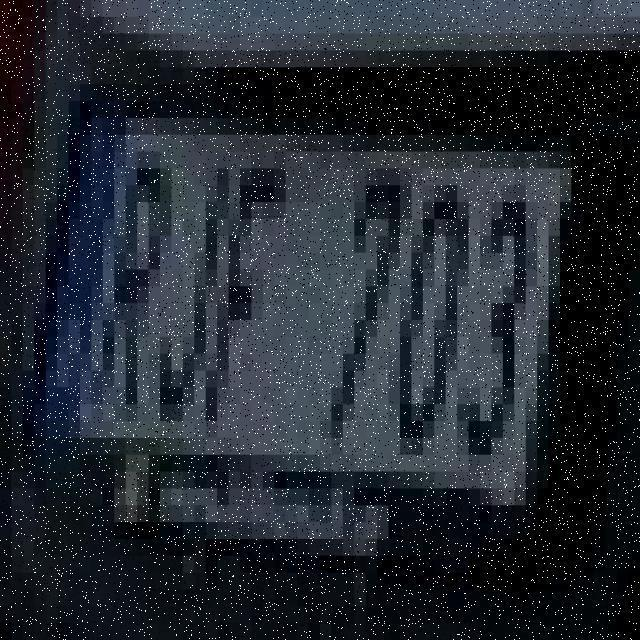LicensePlate: (18, 44, 592, 578)
